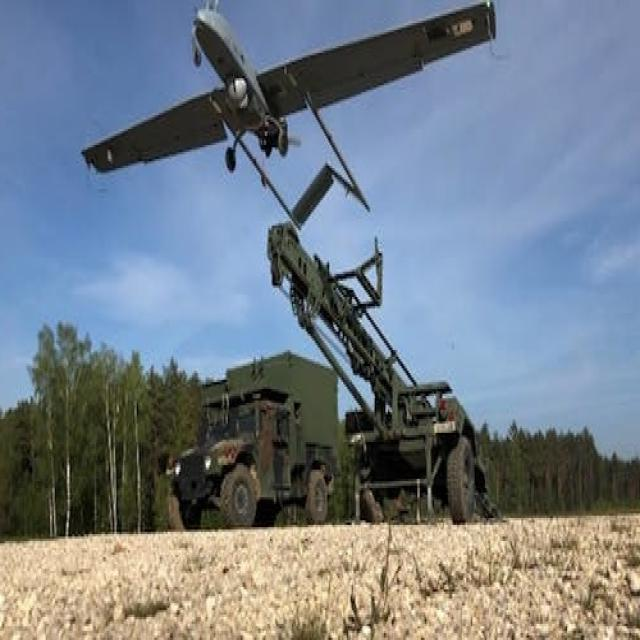iha: (55, 0, 502, 152)
